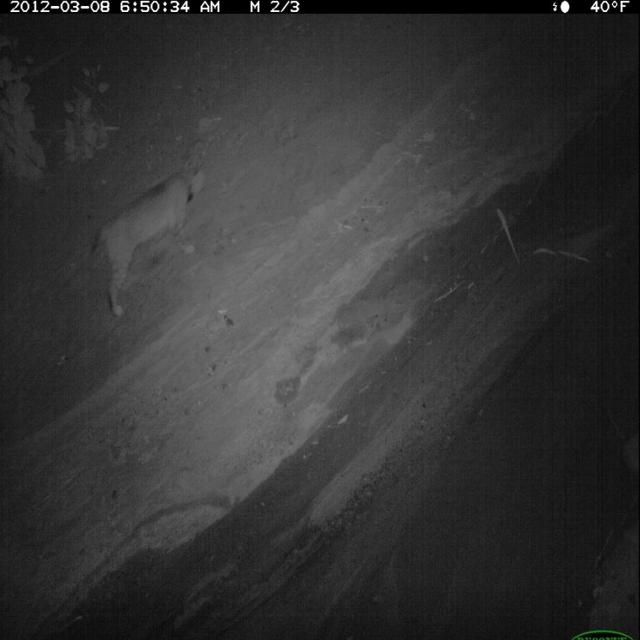bobcat: (87, 148, 210, 325)
